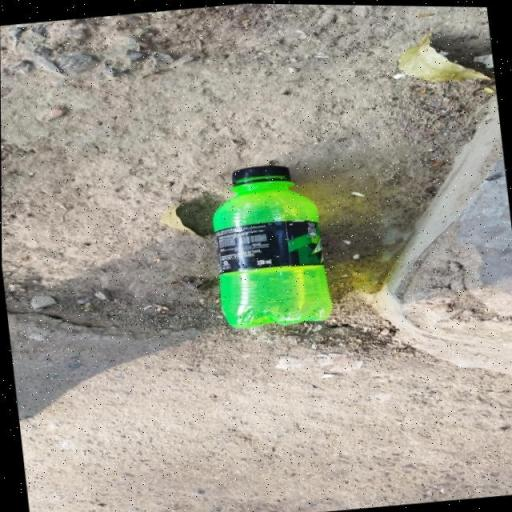plastic: (204, 158, 334, 332)
